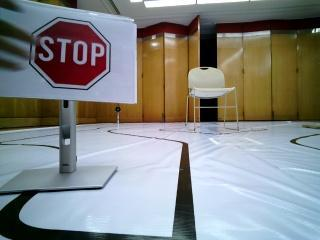stop: (7, 2, 148, 109), (149, 226, 150, 227)
